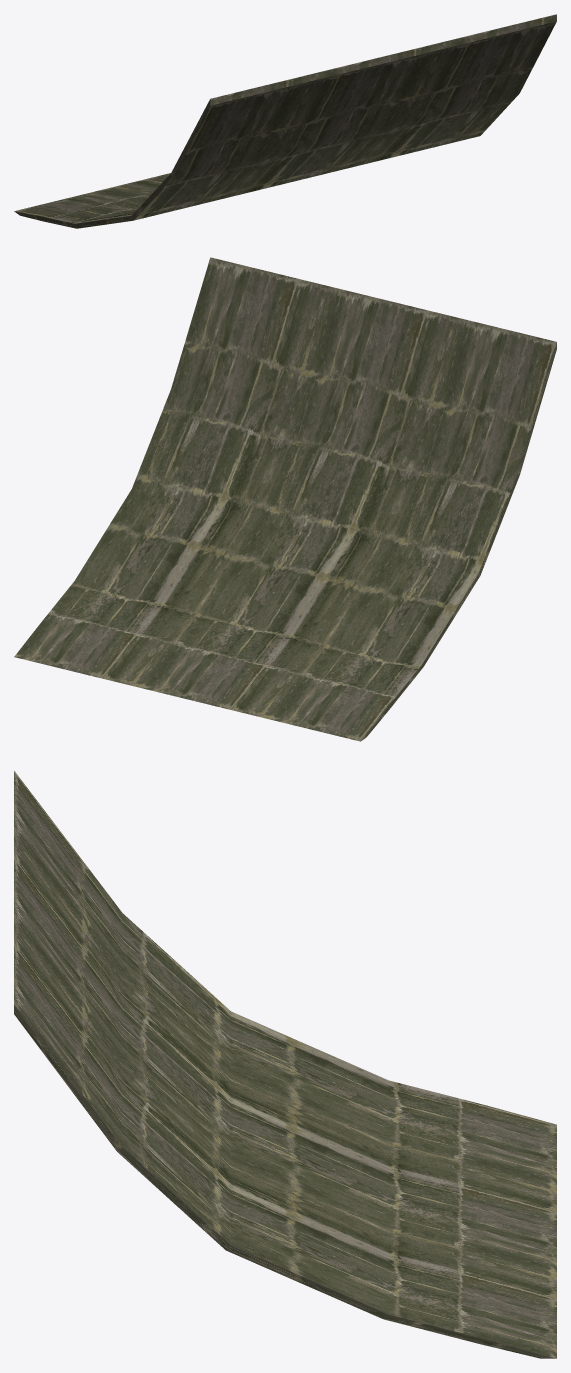
File: Roof_Curve_L.fbx
3 views of the same model, one above another, from view 1: azimuth 30°, elevation 25°; view 2: azimuth 150°, elevation 25°; view 3: azimuth 270°, elevation 25° (orthographic). The views are drawn at different scales.
Parts seen in each view (by area): view 1: Roof_Single_LHalf.004; view 2: Roof_Single_LHalf.004; view 3: Roof_Single_LHalf.004.
Boxes of the visible parts, left/top/right/bottom form: Roof_Single_LHalf.004: left=14, top=14, right=556, bottom=228; Roof_Single_LHalf.004: left=14, top=257, right=556, bottom=741; Roof_Single_LHalf.004: left=14, top=771, right=556, bottom=1358.
Size of the model in its own units: 867 by 612 by 850.
